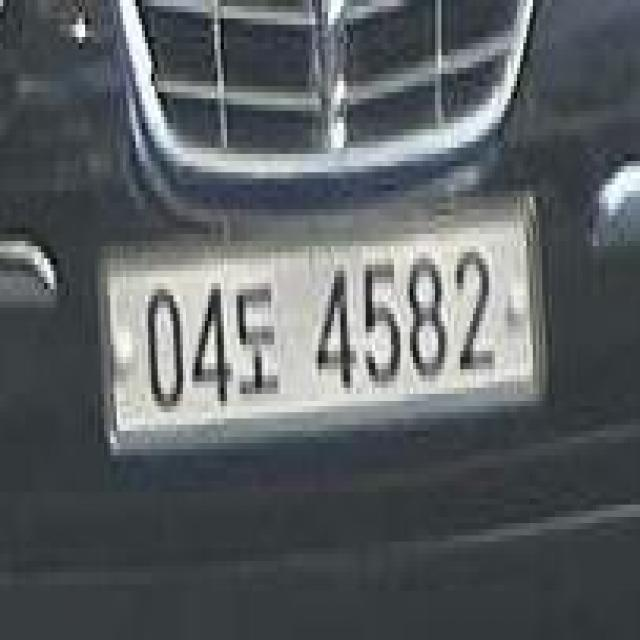illegal_plate: (100, 189, 542, 462)
